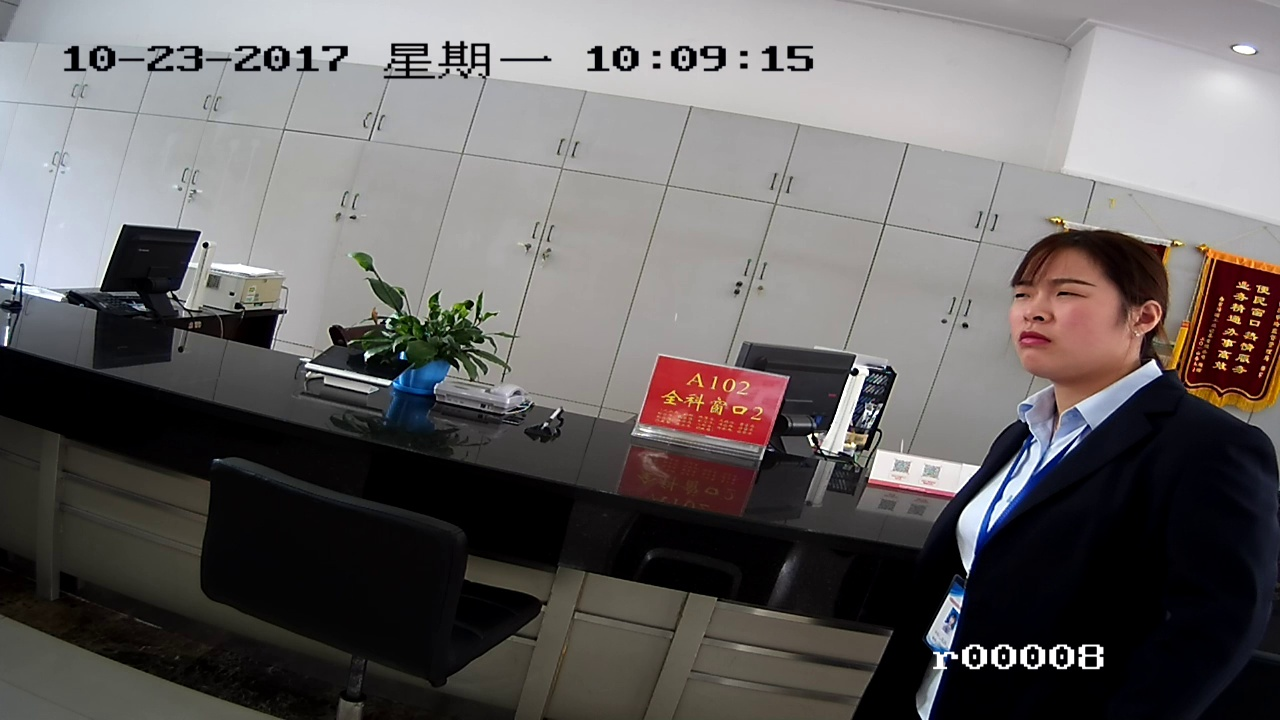billboard: (643, 359, 766, 463)
chair: (195, 461, 534, 712)
monitor: (110, 230, 199, 326)
person: (1001, 245, 1196, 679)
pot: (364, 271, 489, 444)
